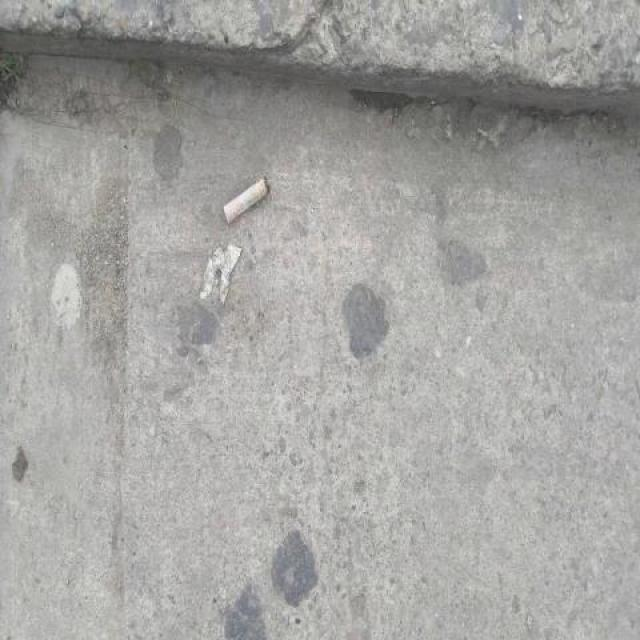non-organic waste: (221, 172, 275, 227)
